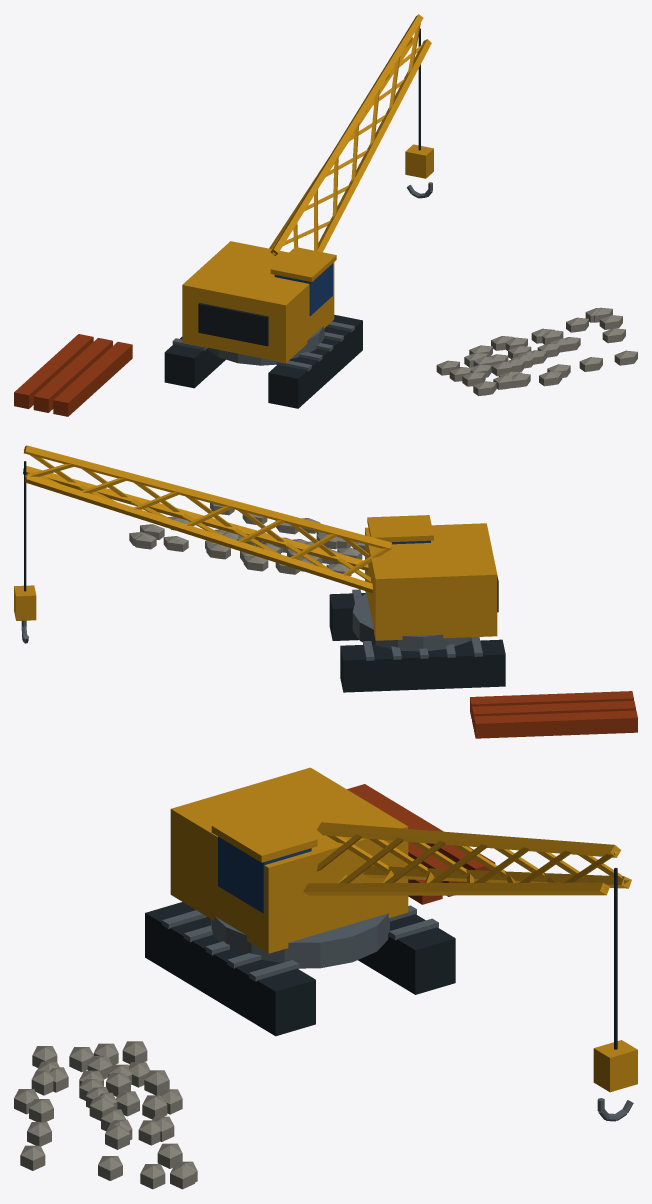
The model's file is construction1.glb.
3 views of the same model, one above another, from view 1: azimuth 30°, elevation 25°; view 2: azimuth 150°, elevation 25°; view 3: azimuth 270°, elevation 25° (orthographic). The views are drawn at different scales.
Visible parts, largest first — view 1: construction1; view 2: construction1; view 3: construction1.
Boxes of the visible parts, x1=… form: construction1: x1=14, y1=14, x2=637, y2=416; construction1: x1=14, y1=445, x2=637, y2=738; construction1: x1=14, y1=767, x2=637, y2=1189.
Bounding box in the file's own units: 48.79 × 18.33 × 32.91.
